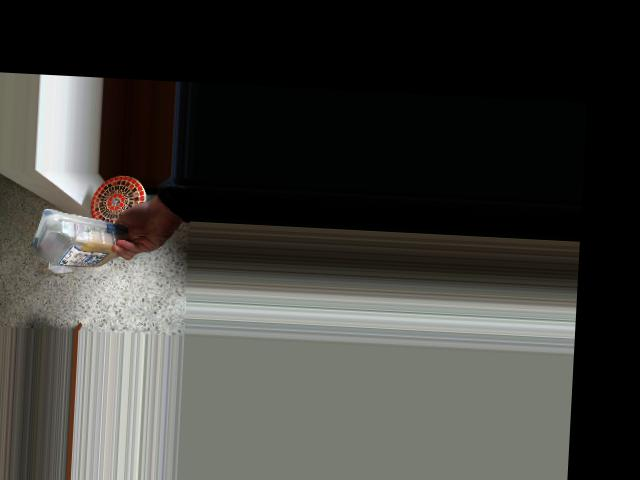cheese: (29, 212, 126, 269)
